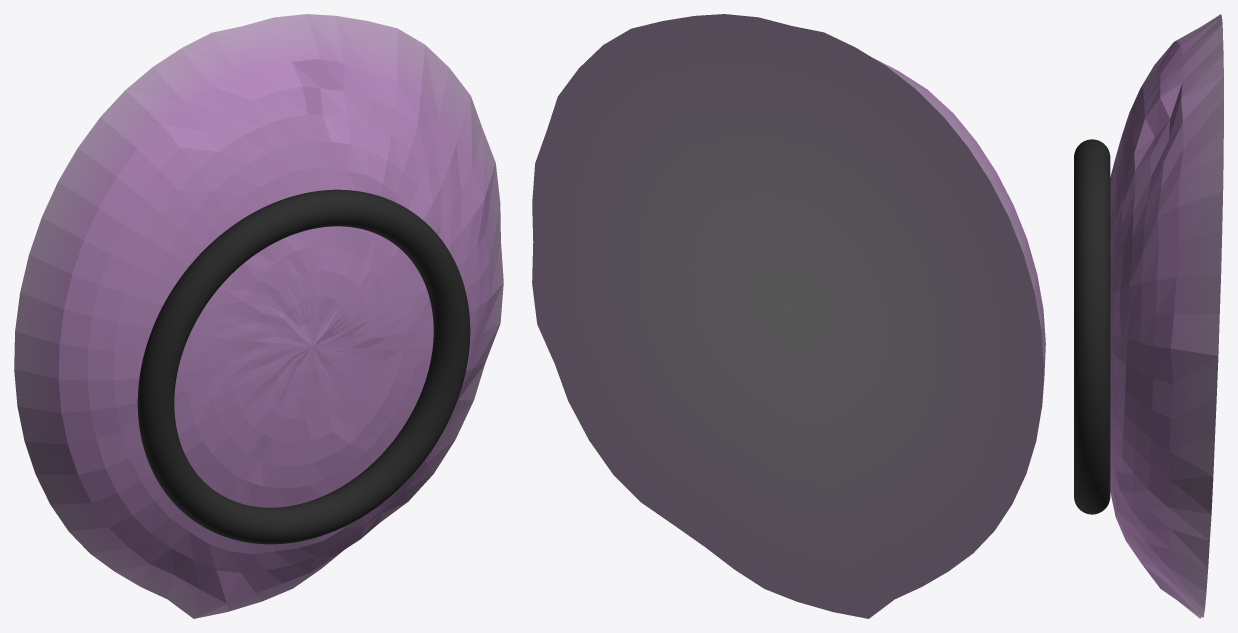
3 views of the same model, side by side, from view 1: azimuth 30°, elevation 25°; view 2: azimuth 150°, elevation 25°; view 3: azimuth 270°, elevation 25° (orthographic). The views are drawn at different scales.
Parts seen in each view (by area): view 1: polyp_body_inferred_base_gray, fixed_CAD_Ring; view 2: polyp_body_inferred_base_gray; view 3: polyp_body_inferred_base_gray, fixed_CAD_Ring.
Part boxes in pixels (<box>): polyp_body_inferred_base_gray: <box>14,14,503,618</box>; fixed_CAD_Ring: <box>137,189,470,544</box>; polyp_body_inferred_base_gray: <box>532,14,1045,618</box>; polyp_body_inferred_base_gray: <box>1110,14,1223,618</box>; fixed_CAD_Ring: <box>1074,139,1110,514</box>.
Bounding box in the file's own units: 0.0186 × 0.0207 × 0.00496.
